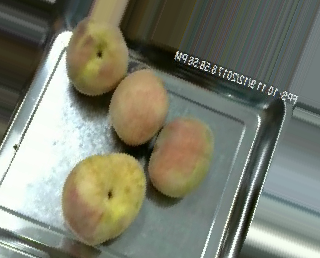Peach: (62, 152, 146, 245), (147, 118, 215, 200), (65, 19, 129, 94), (109, 68, 169, 145)
